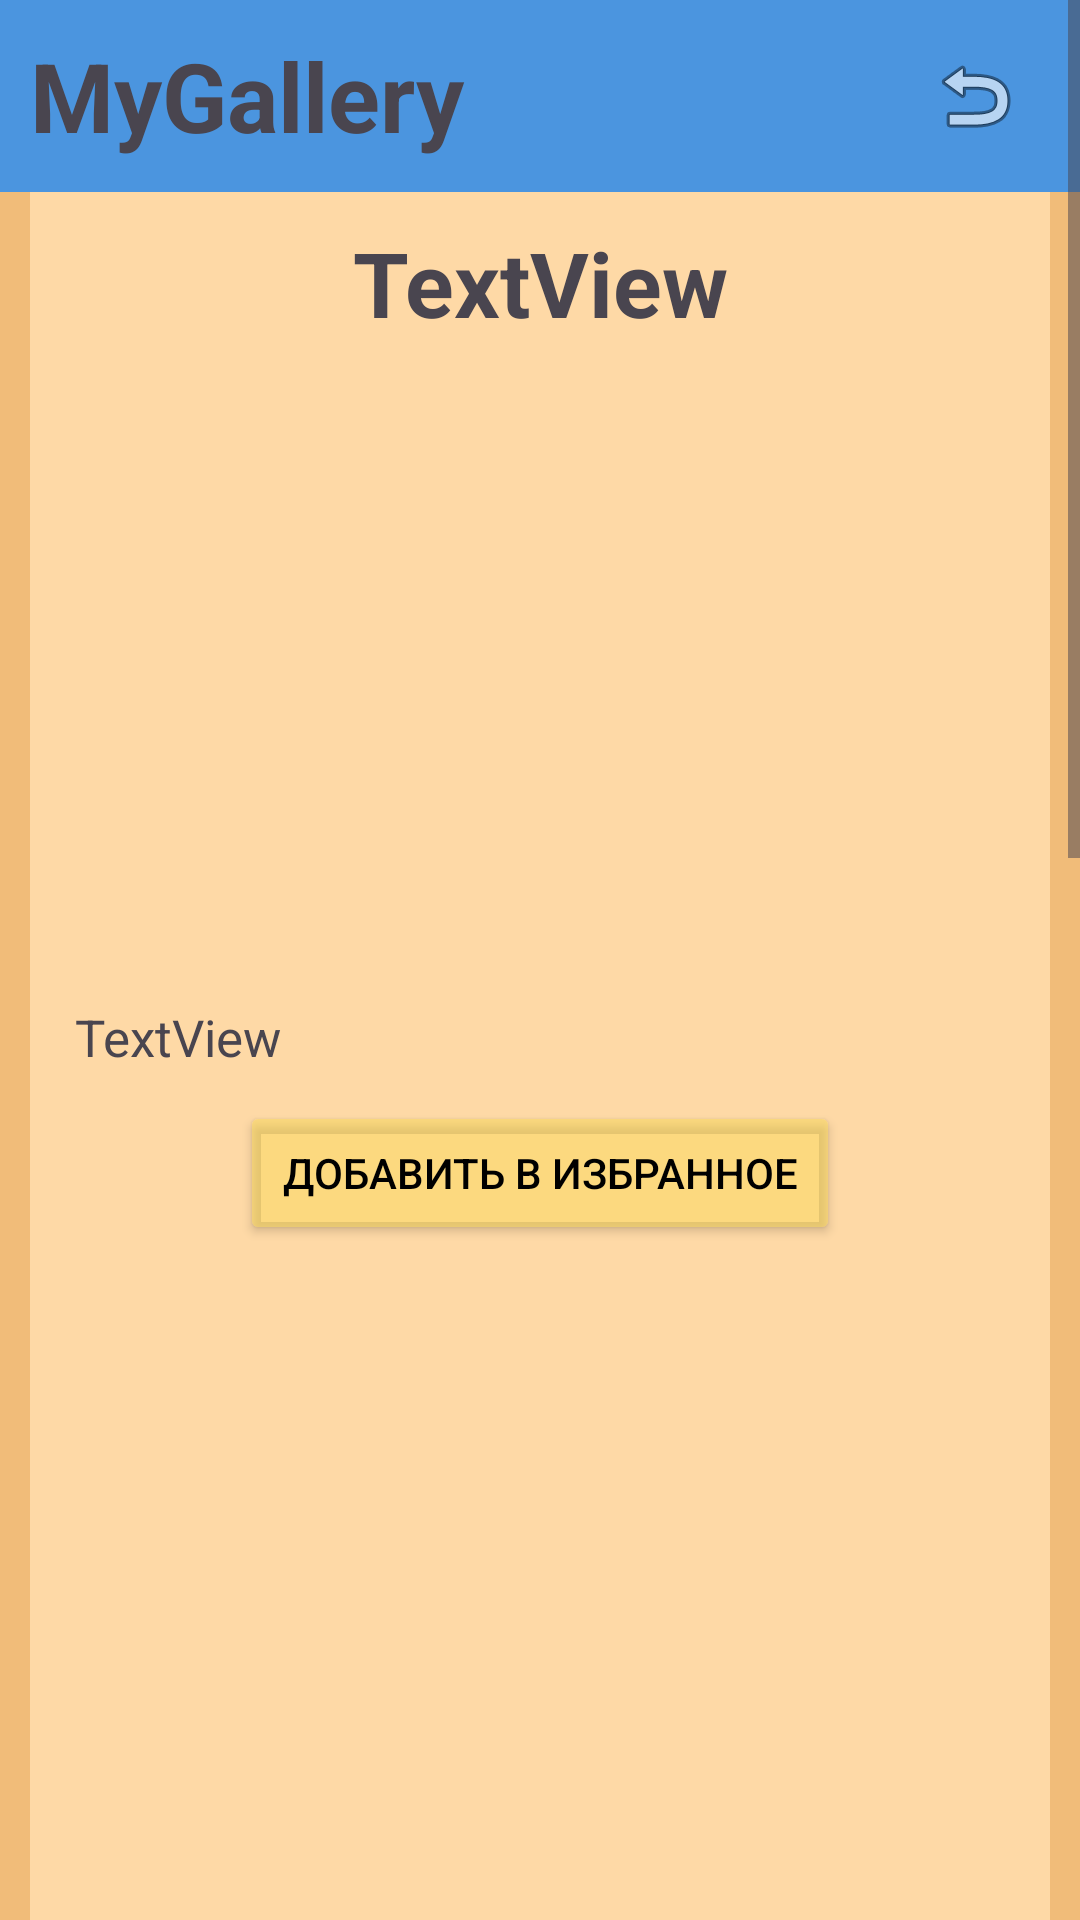

Named icons in this screenshot (1080×1920) and their centers, point (x, y):
revert: point (976, 96)
